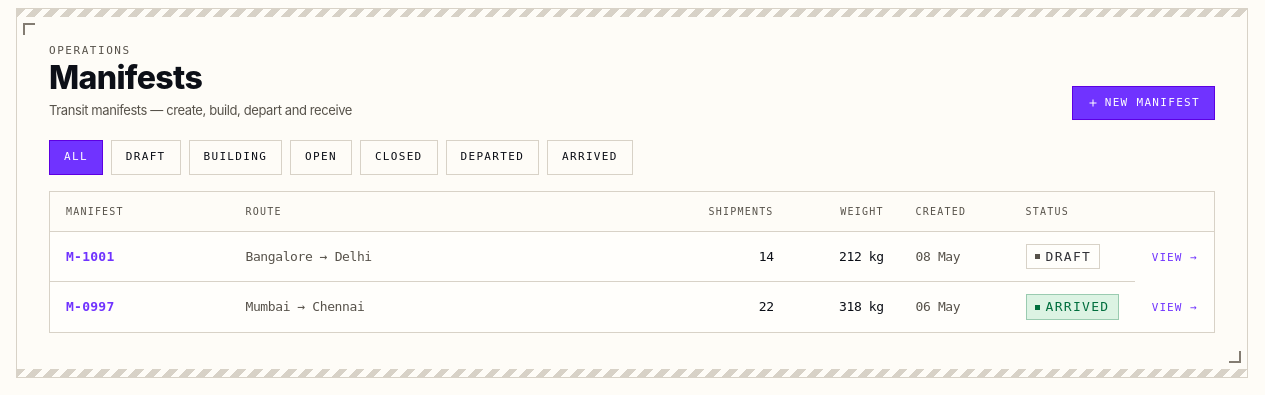
Test: OpsManifestsView › filters manifests by the active status tab
Click the tab "Arrived" at (590, 158), box [547,140,633,175]
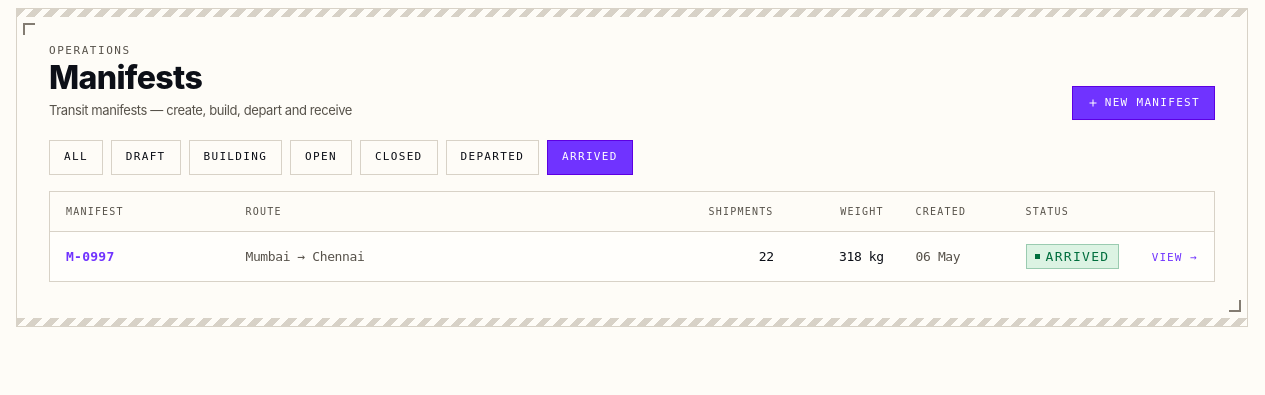
Expected: the link "M-0997" is shown, [66,249,114,264]
Now the link "M-1001" is gone
